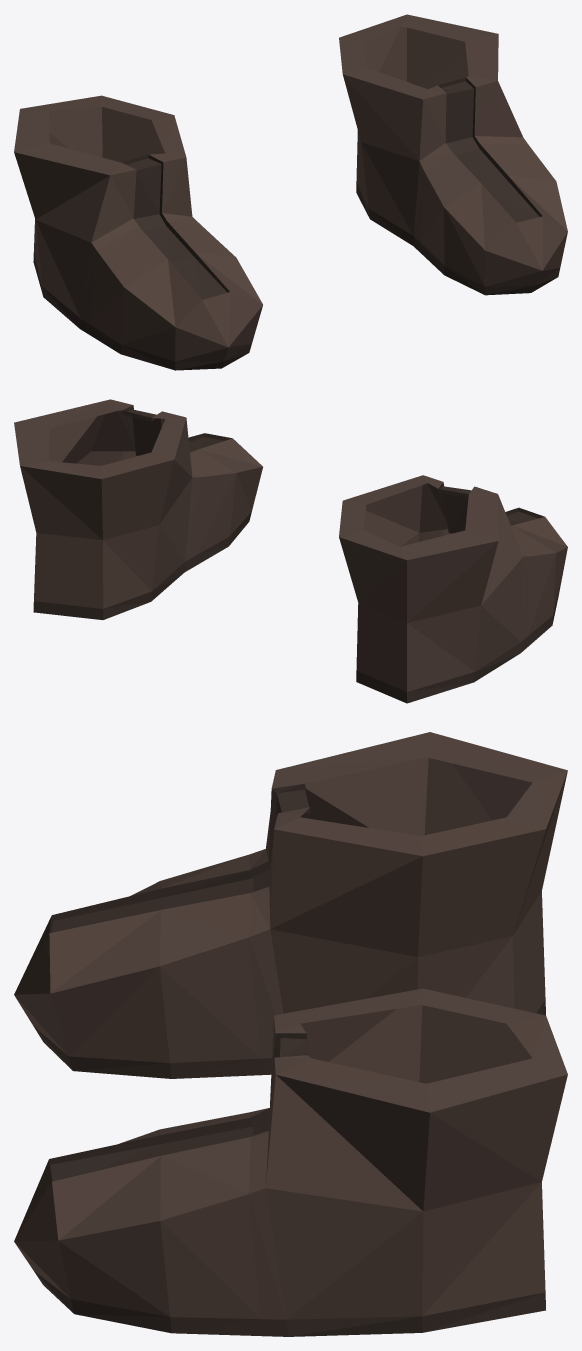
The model's file is ArcherFeet.dae.
The picture shows the model from 3 angles, top to bottom: view 1: azimuth 30°, elevation 25°; view 2: azimuth 150°, elevation 25°; view 3: azimuth 270°, elevation 25°; orthographic projection. The views are drawn at different scales.
Parts seen in each view (by area): view 1: Boots; view 2: Boots; view 3: Boots.
Part boxes in pixels (x1,y1,x2,y2): Boots: [14, 14, 567, 370]; Boots: [14, 399, 567, 703]; Boots: [14, 732, 567, 1336].
Bounding box in the file's own units: 2.84 × 1.74 × 0.8461.
